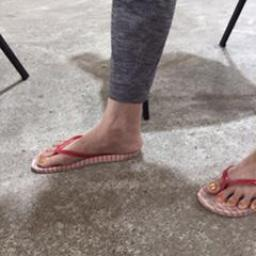Medial View -Right Foot-: (26, 97, 154, 177)
